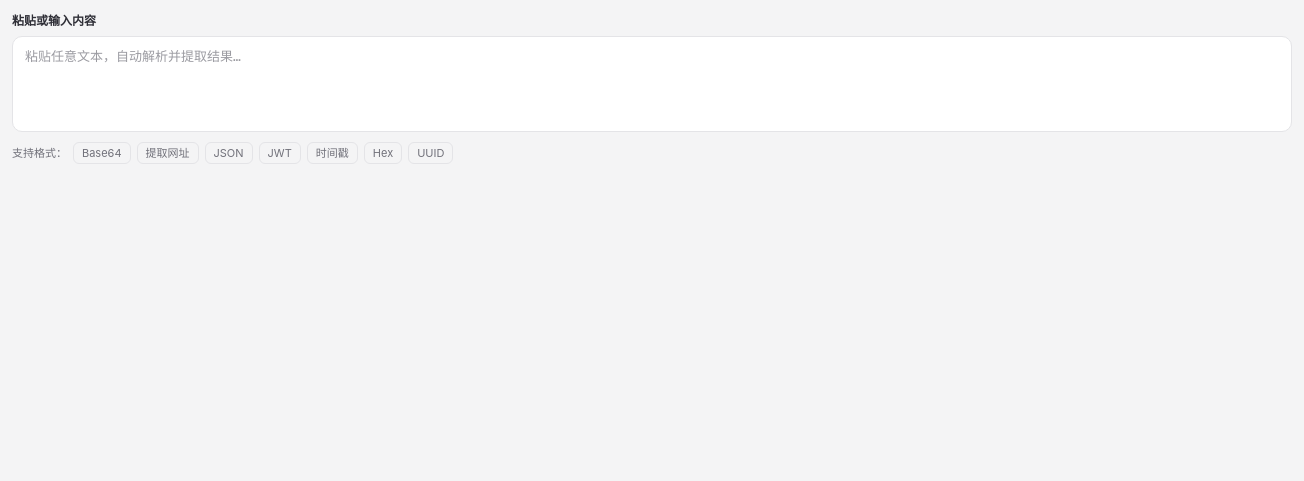
DetectTool 各类型结果视图 › 时间戳示例：渲染 Unix 秒等字段
Click the button with class "tw-detect__format-chip" showing "时间戳". click: (332, 153)
box: [307,142,358,164]
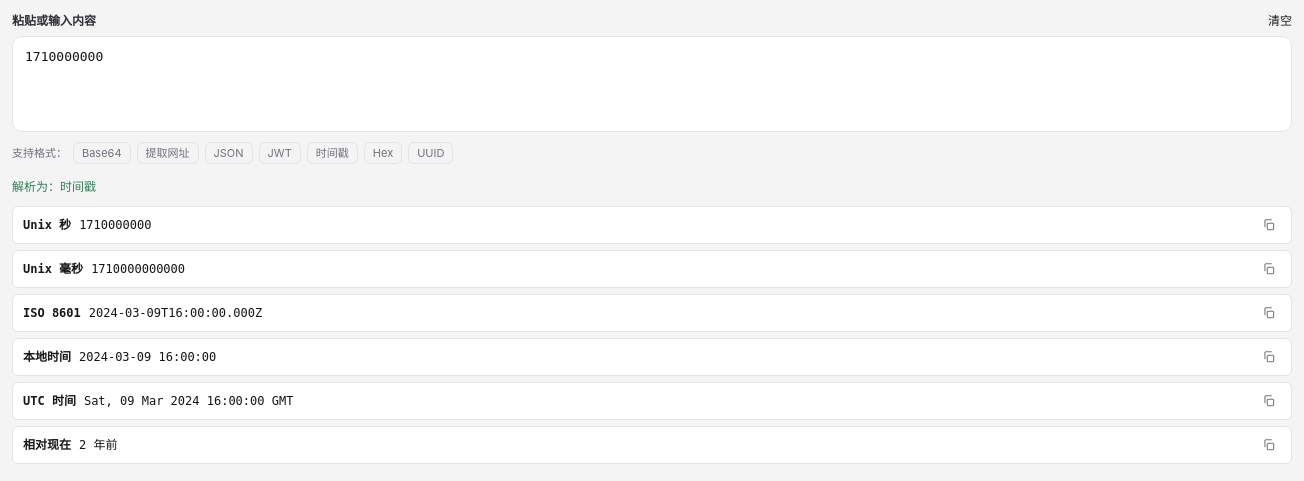
Result: the text "解析为：时间戳" is shown at [12,178,96,196]
Result: the text "Unix 秒" is shown at [23,216,71,234]
Result: the text "1710000000" is shown at [25,49,103,64]
